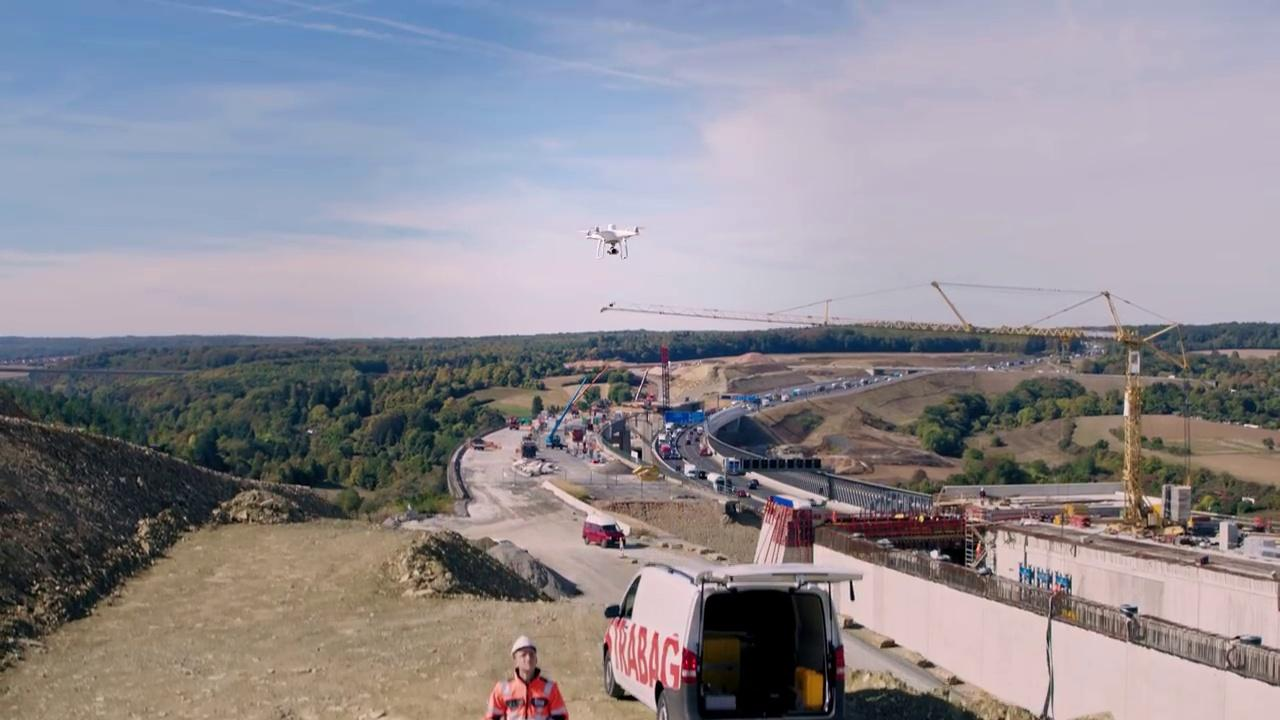drone: (579, 222, 642, 260)
